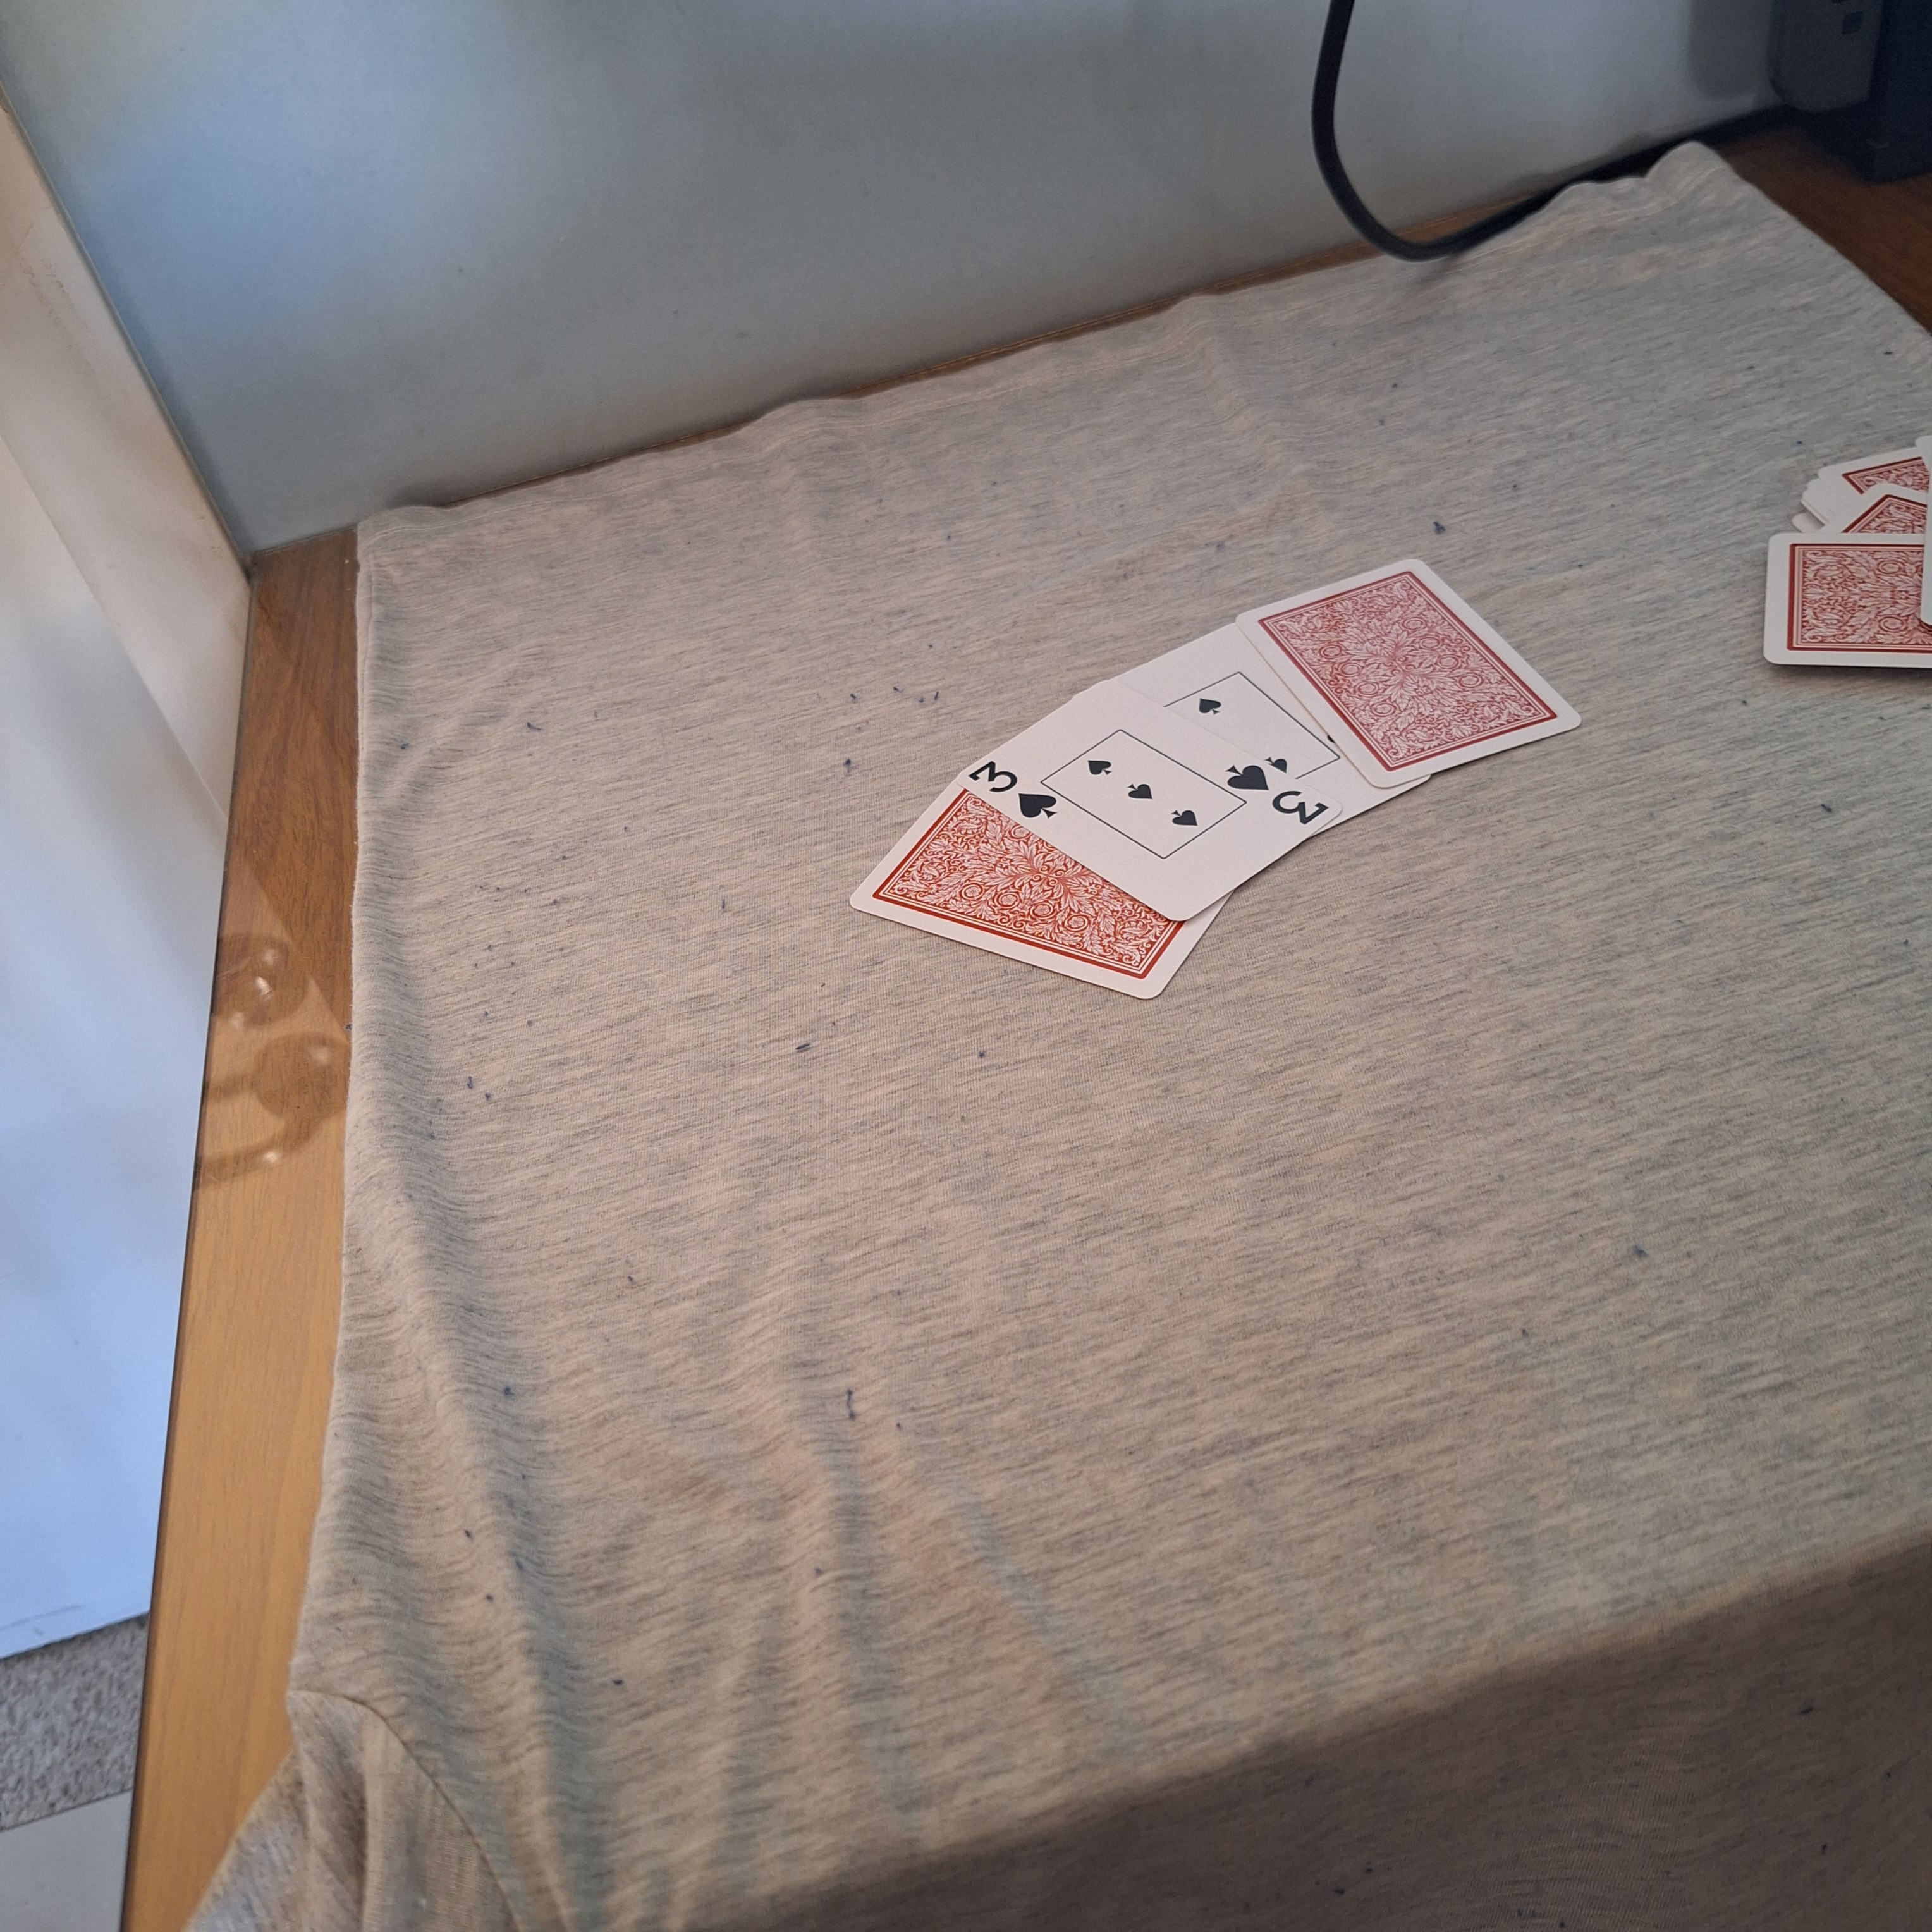3E: (1221, 759, 1327, 832), (962, 755, 1063, 823)
